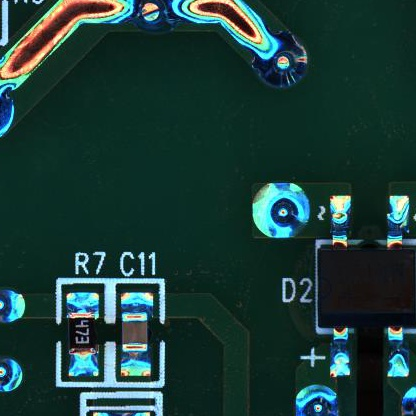spot: (250, 180, 311, 239), (249, 33, 311, 87)
